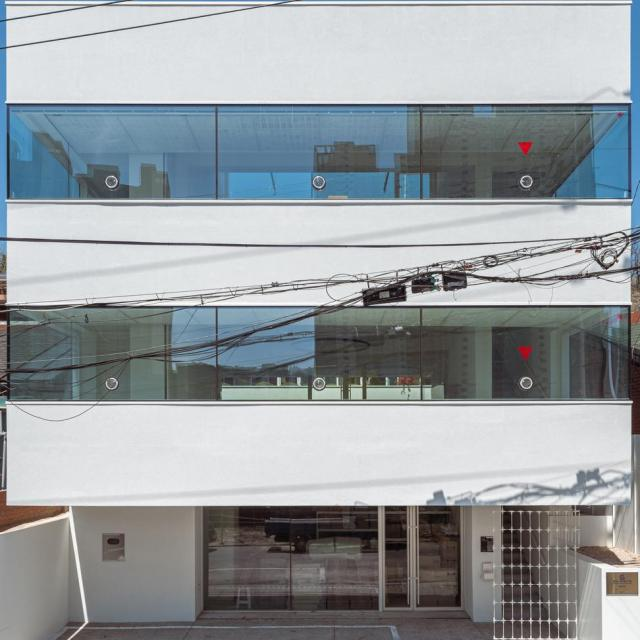door: (378, 503, 462, 611)
wall: (5, 0, 639, 639)
windows: (8, 302, 630, 401), (7, 104, 632, 200), (202, 505, 377, 609)
